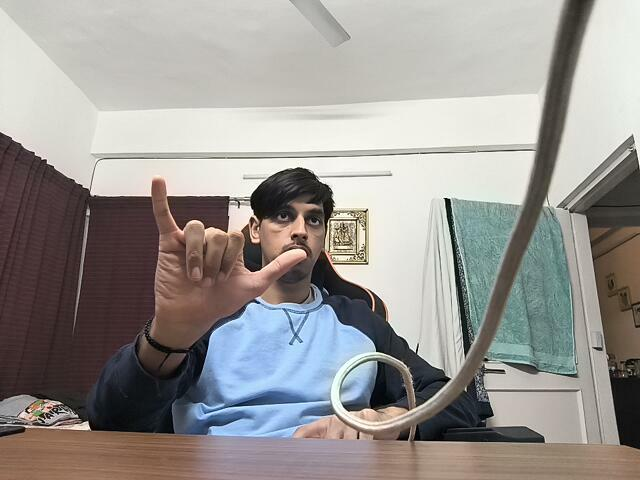FLIP: (139, 164, 311, 337)
